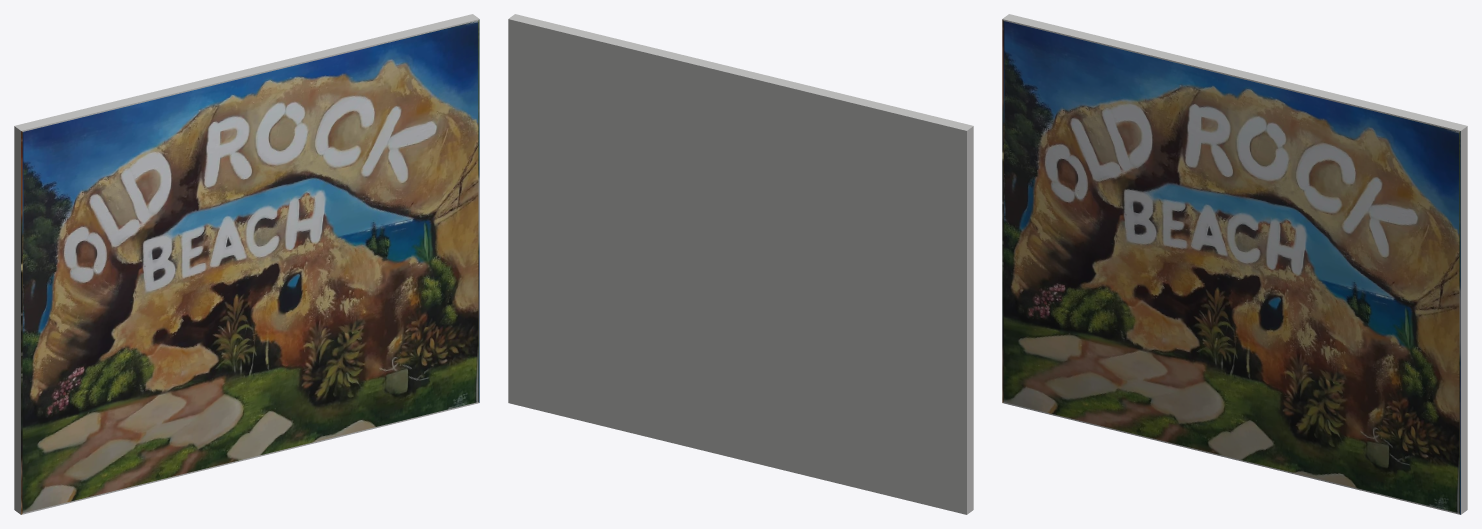
Rendered from Old rock.glb.
3 renders of one model, left to right at view 1: azimuth 30°, elevation 25°; view 2: azimuth 150°, elevation 25°; view 3: azimuth 330°, elevation 25°, orthographic.
Parts seen in each view (by area): view 1: Cube; view 2: Cube; view 3: Cube.
Boxes of the visible parts, box(x1,y1,x2,y2) form: Cube: box(14, 14, 479, 514); Cube: box(508, 14, 973, 514); Cube: box(1002, 14, 1467, 514).
Size of the model in its own units: 1.52 by 1.22 by 0.04.
2 materials, 1 textured.
